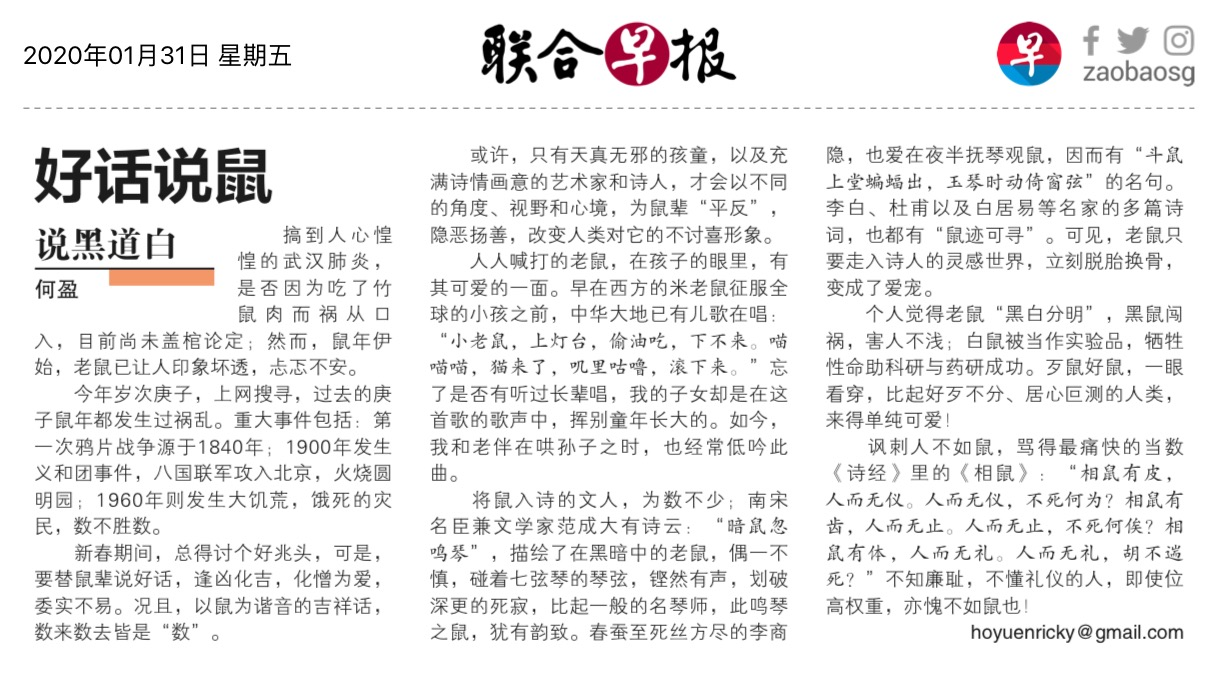heading_test: (30, 138, 289, 212)
